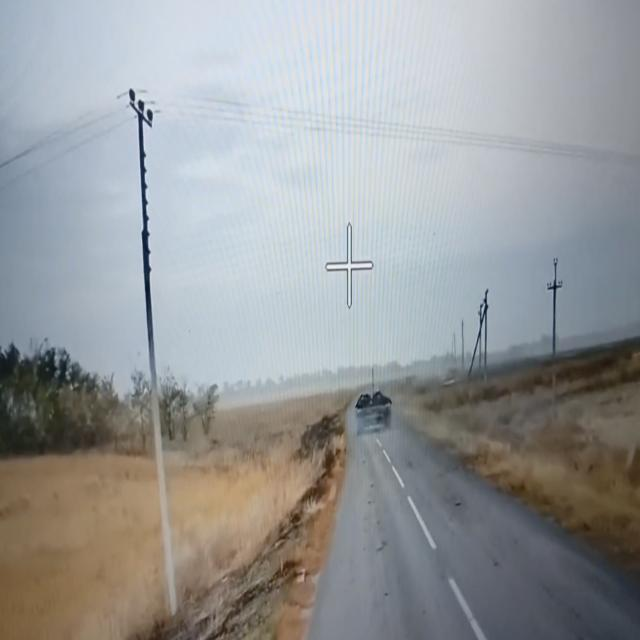vehicle: (354, 389, 392, 435)
